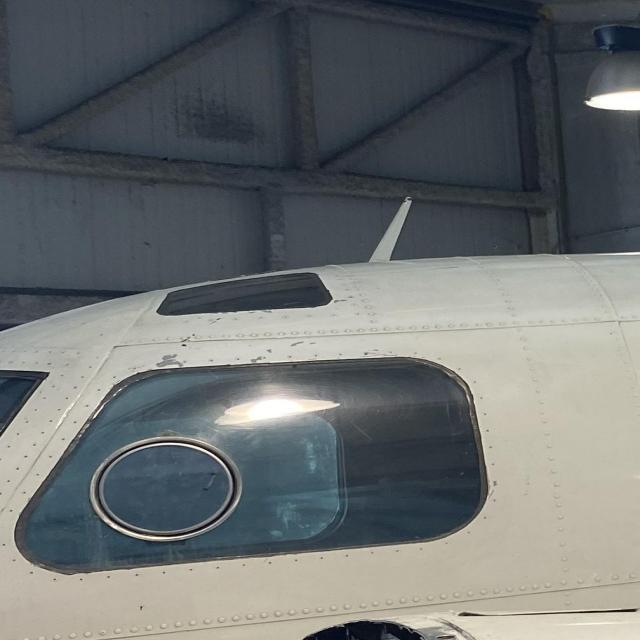Paint-off: (355, 350, 398, 361), (158, 353, 178, 367), (289, 339, 308, 348), (487, 490, 497, 503), (306, 339, 317, 348), (249, 356, 265, 362), (332, 299, 350, 304), (206, 319, 218, 326), (262, 347, 274, 354), (261, 309, 275, 314)
